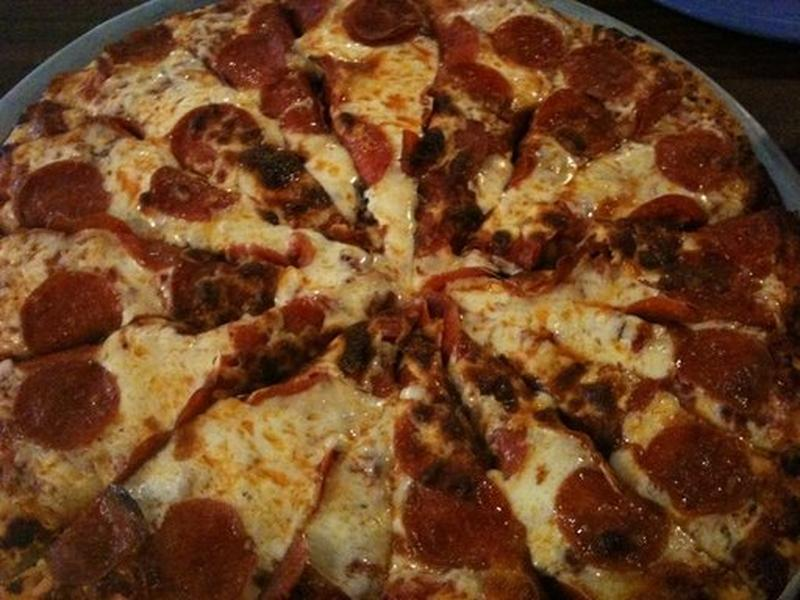pizza: (45, 25, 798, 600)
